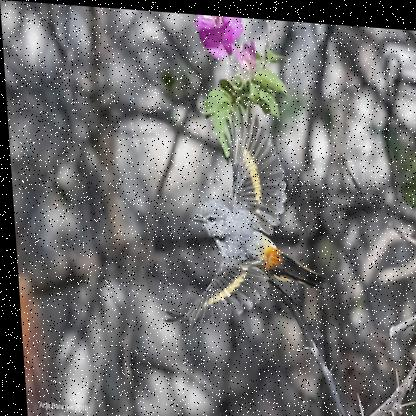Burung: (149, 96, 323, 334)
